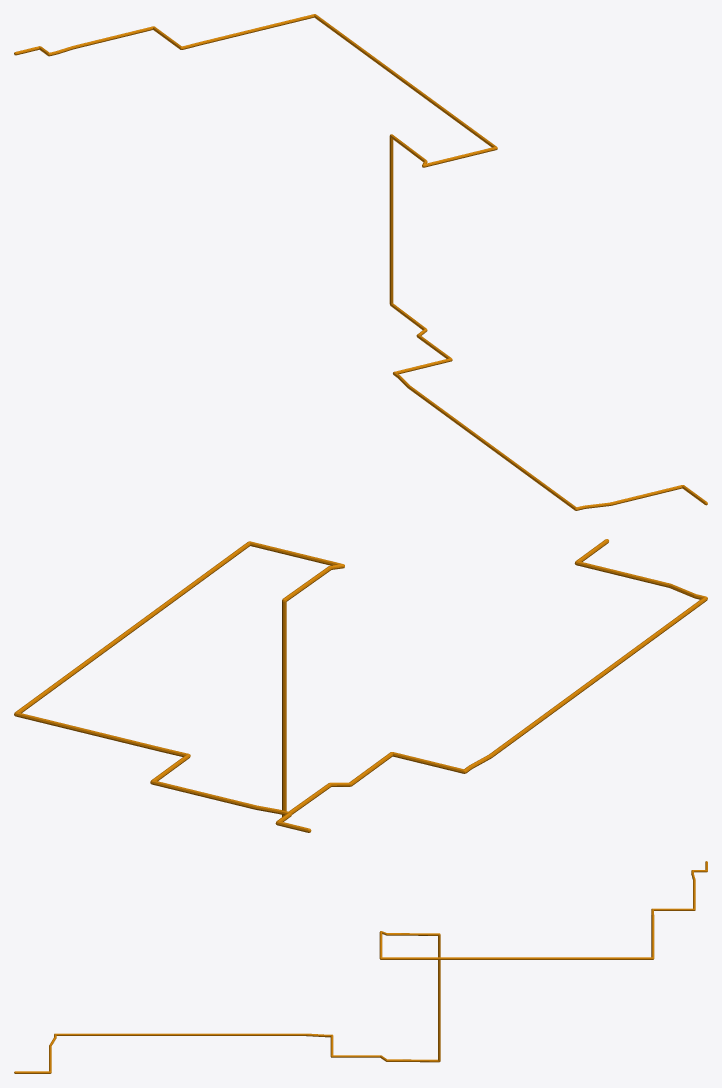
3 renders of one model, top to bottom at view 1: azimuth 30°, elevation 25°; view 2: azimuth 150°, elevation 25°; view 3: azimuth 270°, elevation 25°, orthographic. The views are drawn at different scales.
Bounding box in the file's own units: 1655 × 1020 × 4979.
